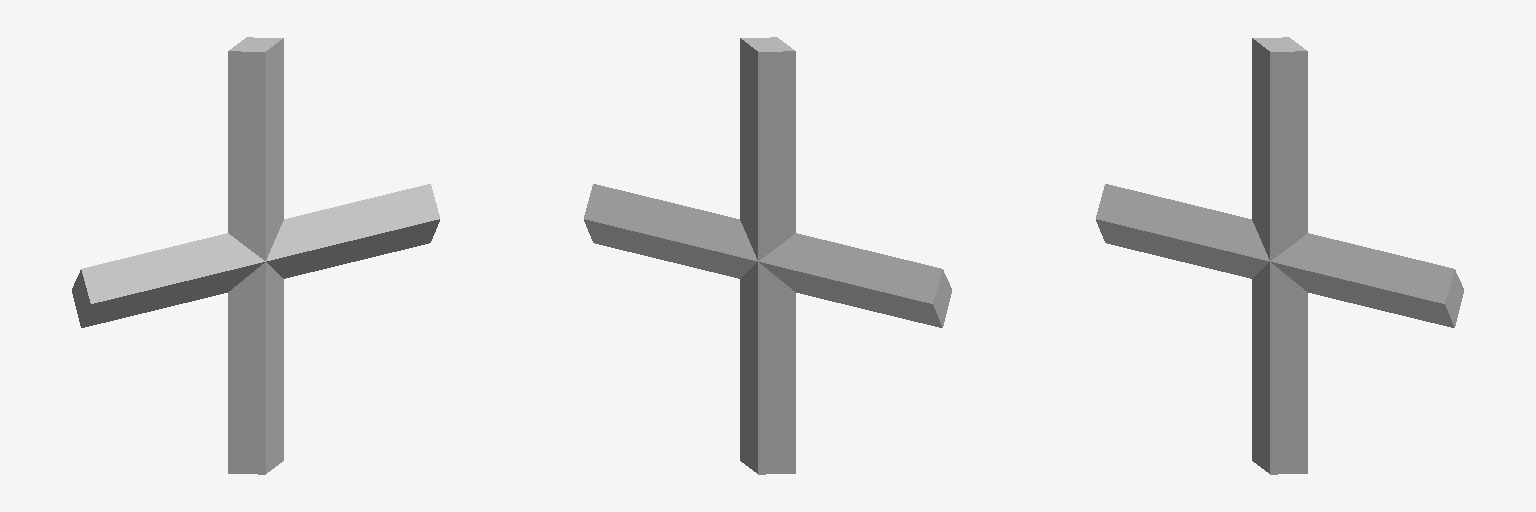
Rendered from More.obj.
The picture shows the model from 3 angles: view 1: azimuth 30°, elevation 25°; view 2: azimuth 150°, elevation 25°; view 3: azimuth 330°, elevation 25°; orthographic projection.
Parts seen in each view (by area): view 1: Plane.001; view 2: Plane.001; view 3: Plane.001.
Boxes of the visible parts, box(x1,y1,x2,y2) form: Plane.001: box(72, 37, 439, 474); Plane.001: box(584, 37, 951, 474); Plane.001: box(1096, 37, 1463, 474).
Bounding box in the file's own units: 0.4553 × 0.5262 × 0.0439.